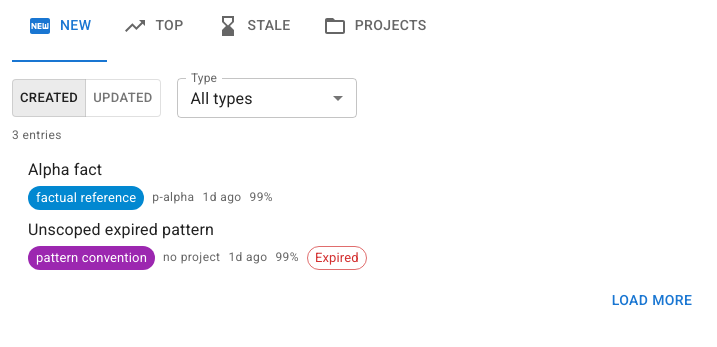
Scenario: BrowsePanel › (d) Load more appends the next page and drops repeats
What coordinates should you click on to do the following:
click the button "Load more"
I would click on:
 (652, 300)
Its box is [604,282,700,318].
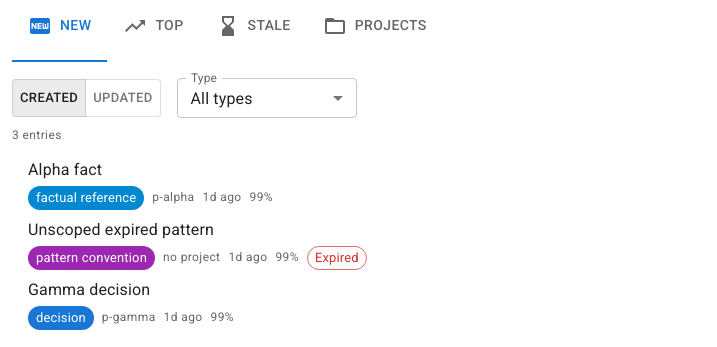
Expected: the text "Gamma decision" is shown, [28,280,150,299]
Expected: the number of buttons with test id "browse-row" is 3, [28,160,273,210]; [28,220,367,270]; [28,280,234,330]
Expected: the button "Load more" is gone
